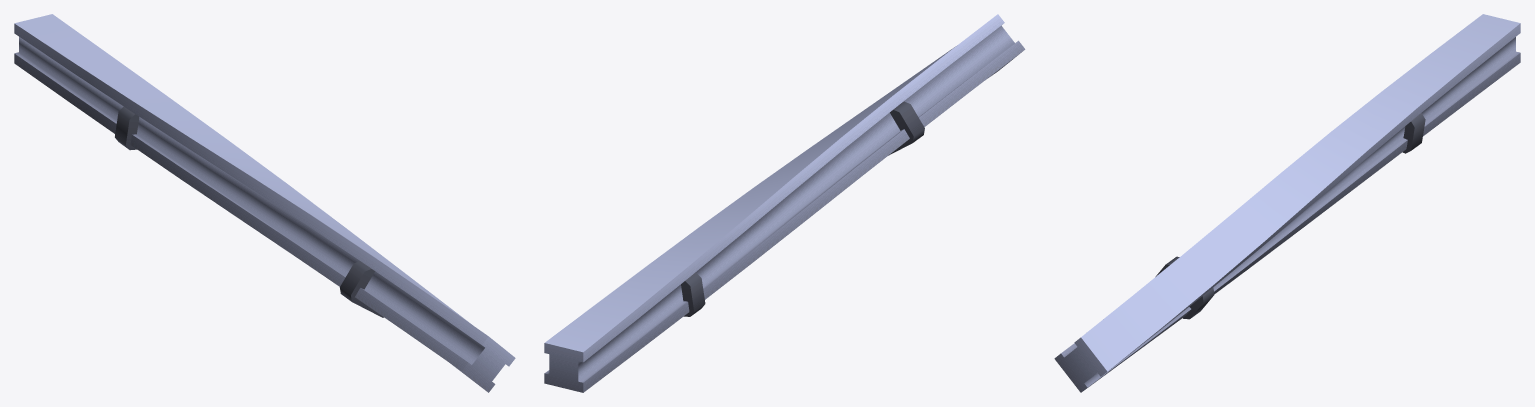
The model's file is coaster-monorail-straight-skew-left.glb.
The picture shows the model from 3 angles, left to right: view 1: azimuth 30°, elevation 25°; view 2: azimuth 150°, elevation 25°; view 3: azimuth 330°, elevation 25°; orthographic projection. The views are drawn at different scales.
Visible parts, largest first — view 1: coaster-monorail-straight-skew-left; view 2: coaster-monorail-straight-skew-left; view 3: coaster-monorail-straight-skew-left.
Boxes of the visible parts, <box> form: coaster-monorail-straight-skew-left: <box>14,14,515,392</box>; coaster-monorail-straight-skew-left: <box>544,14,1025,392</box>; coaster-monorail-straight-skew-left: <box>1054,14,1520,392</box>.
Bounding box in the file's own units: 1.01 × 0.9065 × 12.
Materials: 1 (1 with a texture image).
